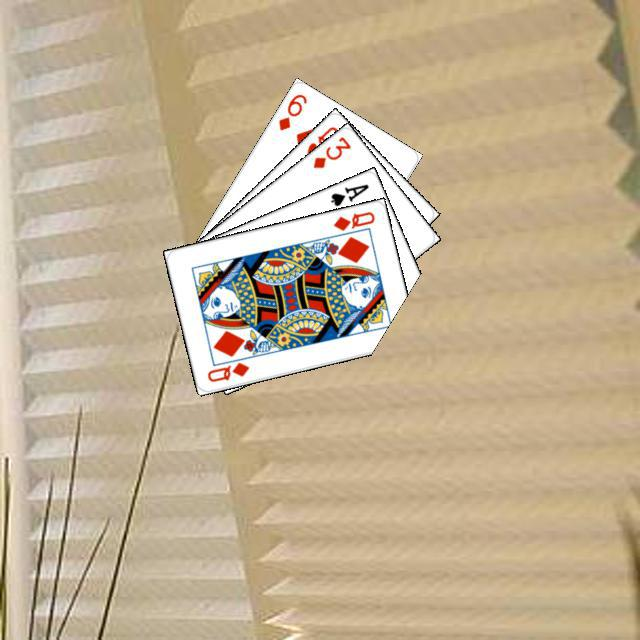3d: (308, 132, 353, 170)
6d: (273, 89, 309, 132)
As: (326, 179, 371, 208)
Qd: (202, 357, 251, 384), (328, 207, 376, 232)
Qh: (301, 121, 341, 160)
